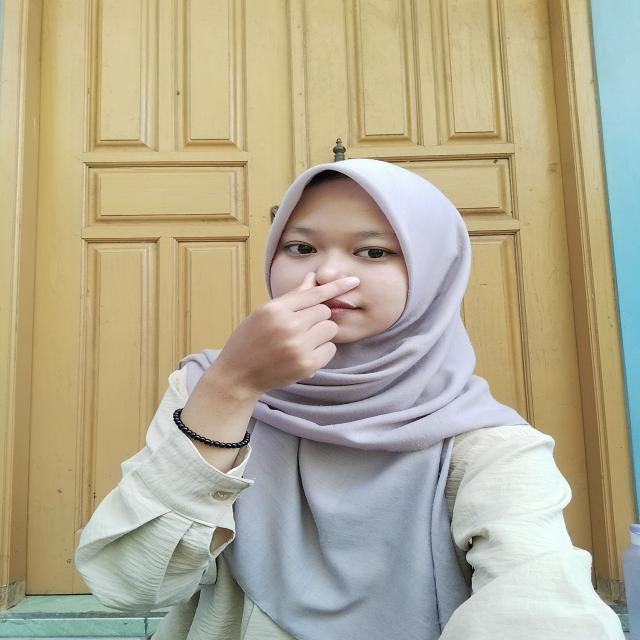bau: (212, 262, 366, 421)
